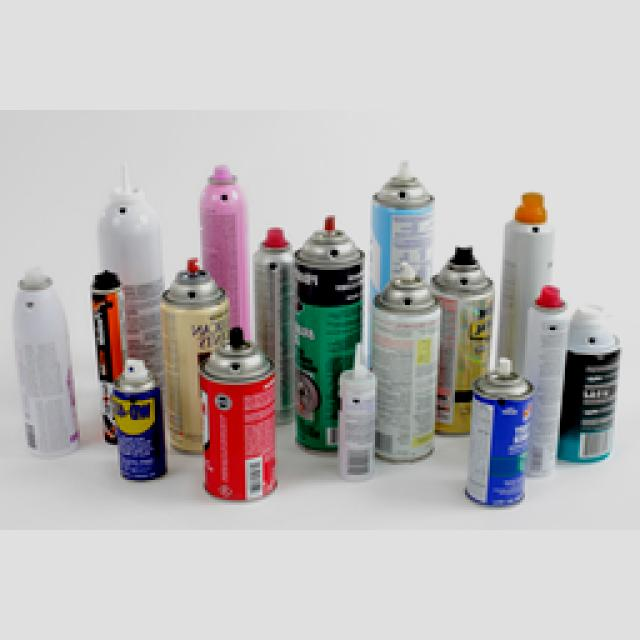B3: (293, 220, 365, 448), (368, 264, 441, 461), (198, 330, 276, 498), (158, 264, 228, 450), (429, 248, 494, 434), (369, 160, 435, 320), (466, 360, 534, 504), (561, 308, 622, 466), (521, 286, 571, 477), (252, 229, 295, 417), (109, 358, 168, 480), (90, 272, 128, 438)
